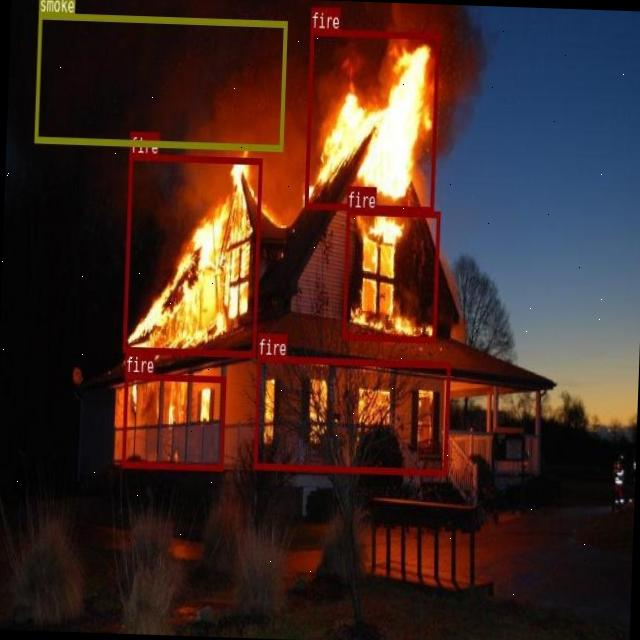fire: (122, 152, 260, 356), (304, 28, 439, 210), (252, 354, 450, 474), (341, 207, 440, 342), (121, 372, 225, 469)
smoke: (34, 12, 286, 150)
